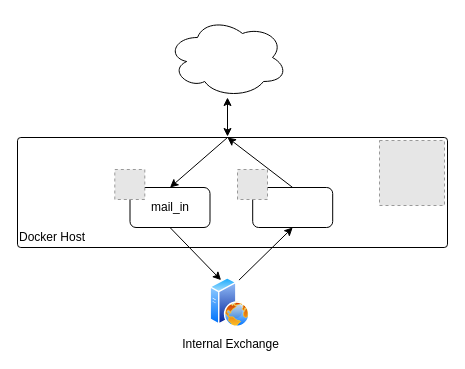
Image size: 465x369. Some labels were removed from this diagram. Grey dashed boxes stand in for pictures. The box of each missing label's shape, as (x1, y1, x2, y2) in pixels:
Internet: (166, 16, 288, 98)
mail_out: (252, 186, 333, 228)
